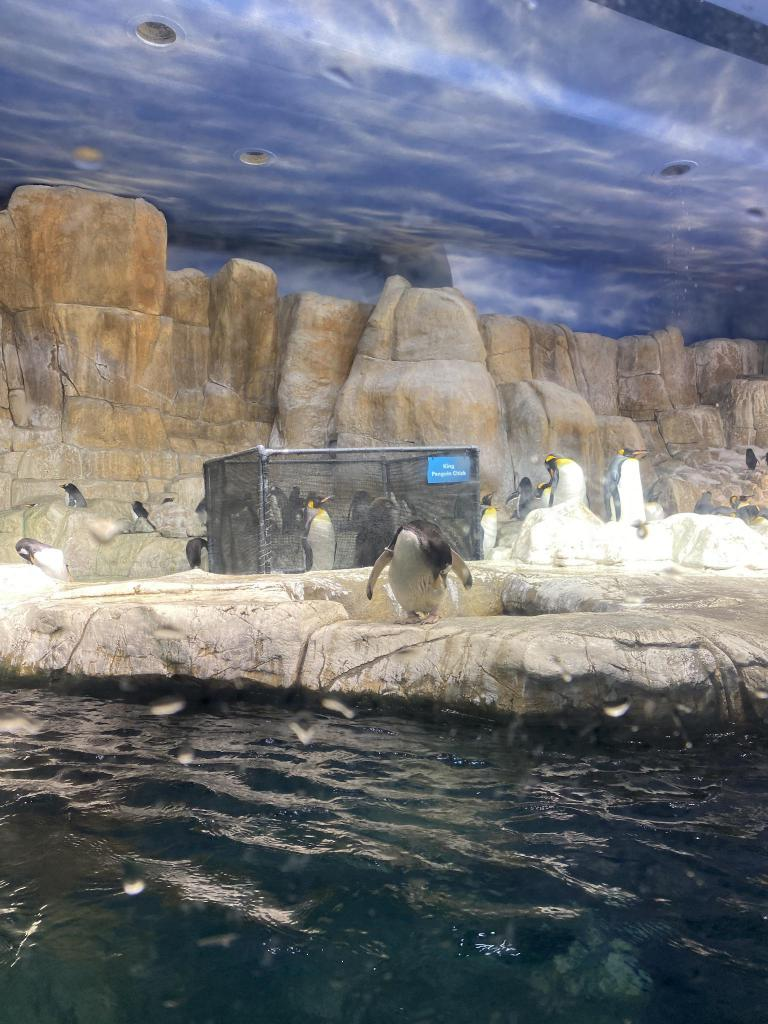Penguin: (366, 520, 474, 626), (505, 454, 585, 522), (603, 444, 652, 522), (694, 490, 765, 535), (301, 495, 338, 572), (475, 491, 498, 560)
